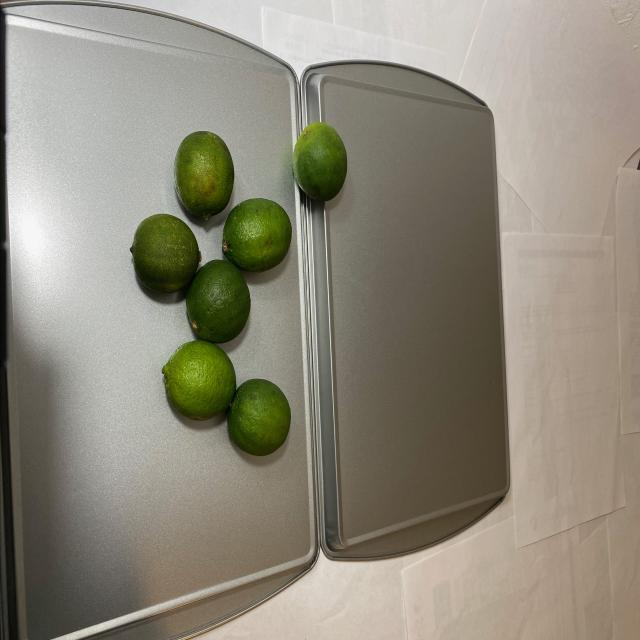lemon: (128, 119, 347, 455)
